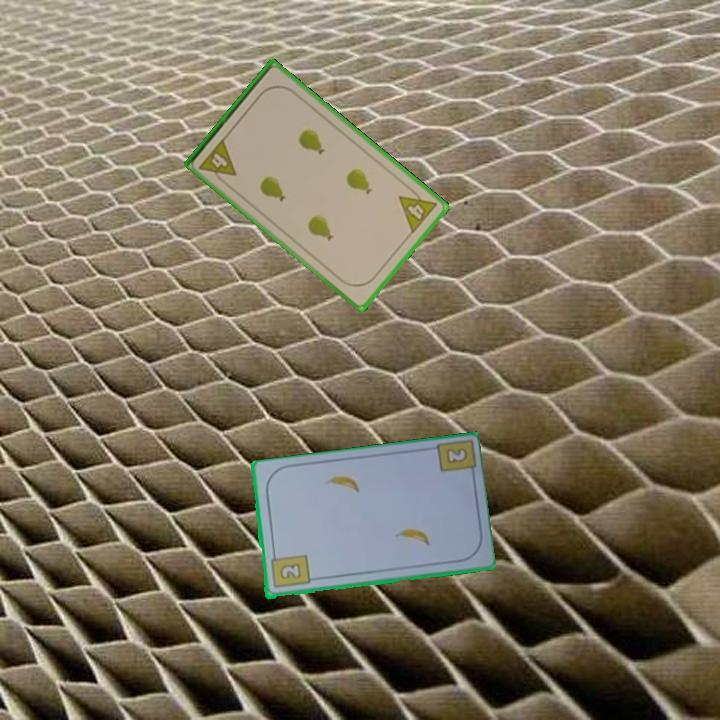2b: (267, 549, 312, 591), (444, 446, 468, 465)
4p: (395, 182, 440, 237), (195, 135, 239, 188)
